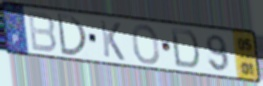9: (204, 33, 231, 73)
B: (26, 10, 58, 55)
D: (55, 11, 89, 58), (169, 26, 201, 71)
K: (98, 18, 126, 63)
O: (131, 23, 162, 66)
